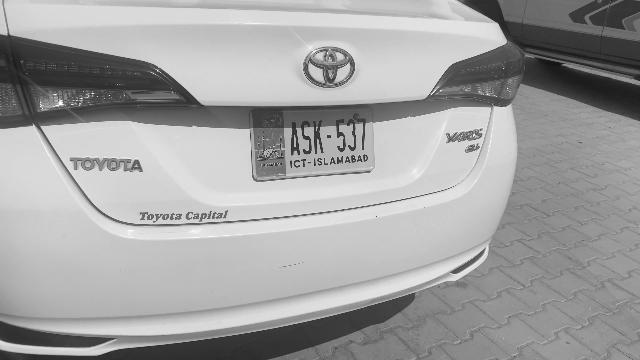Number: (288, 119, 368, 158)
